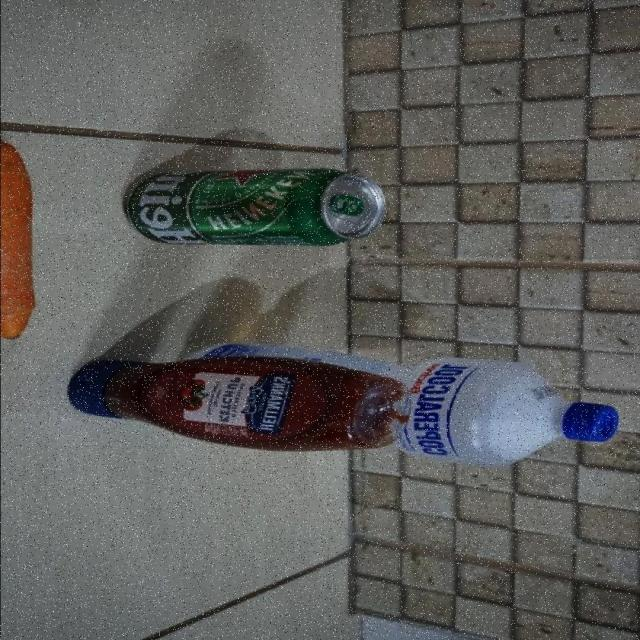AlcoholBottle: (183, 342, 615, 464)
BeerCan: (128, 167, 384, 246)
Carrot: (0, 139, 38, 340)
Ketchup: (64, 355, 415, 450)
